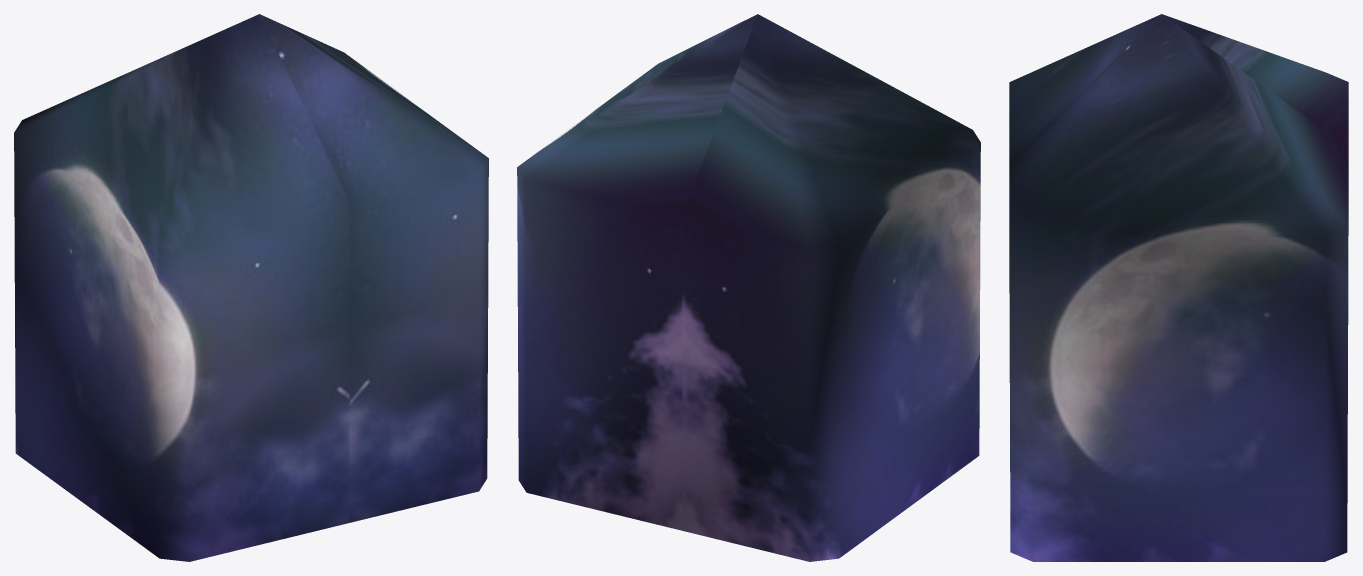
The model's file is enf_noLight.fbx.
3 renders of one model, left to right at view 1: azimuth 30°, elevation 25°; view 2: azimuth 150°, elevation 25°; view 3: azimuth 270°, elevation 25°, orthographic. The views are drawn at different scales.
Parts seen in each view (by area): view 1: polySurface126; view 2: polySurface126; view 3: polySurface126.
Part boxes in pixels (box(x1,y1,x2,y2)): polySurface126: box(14, 14, 488, 561); polySurface126: box(517, 14, 980, 561); polySurface126: box(1009, 14, 1348, 561).
Size of the model in its own units: 589 by 901 by 516.
